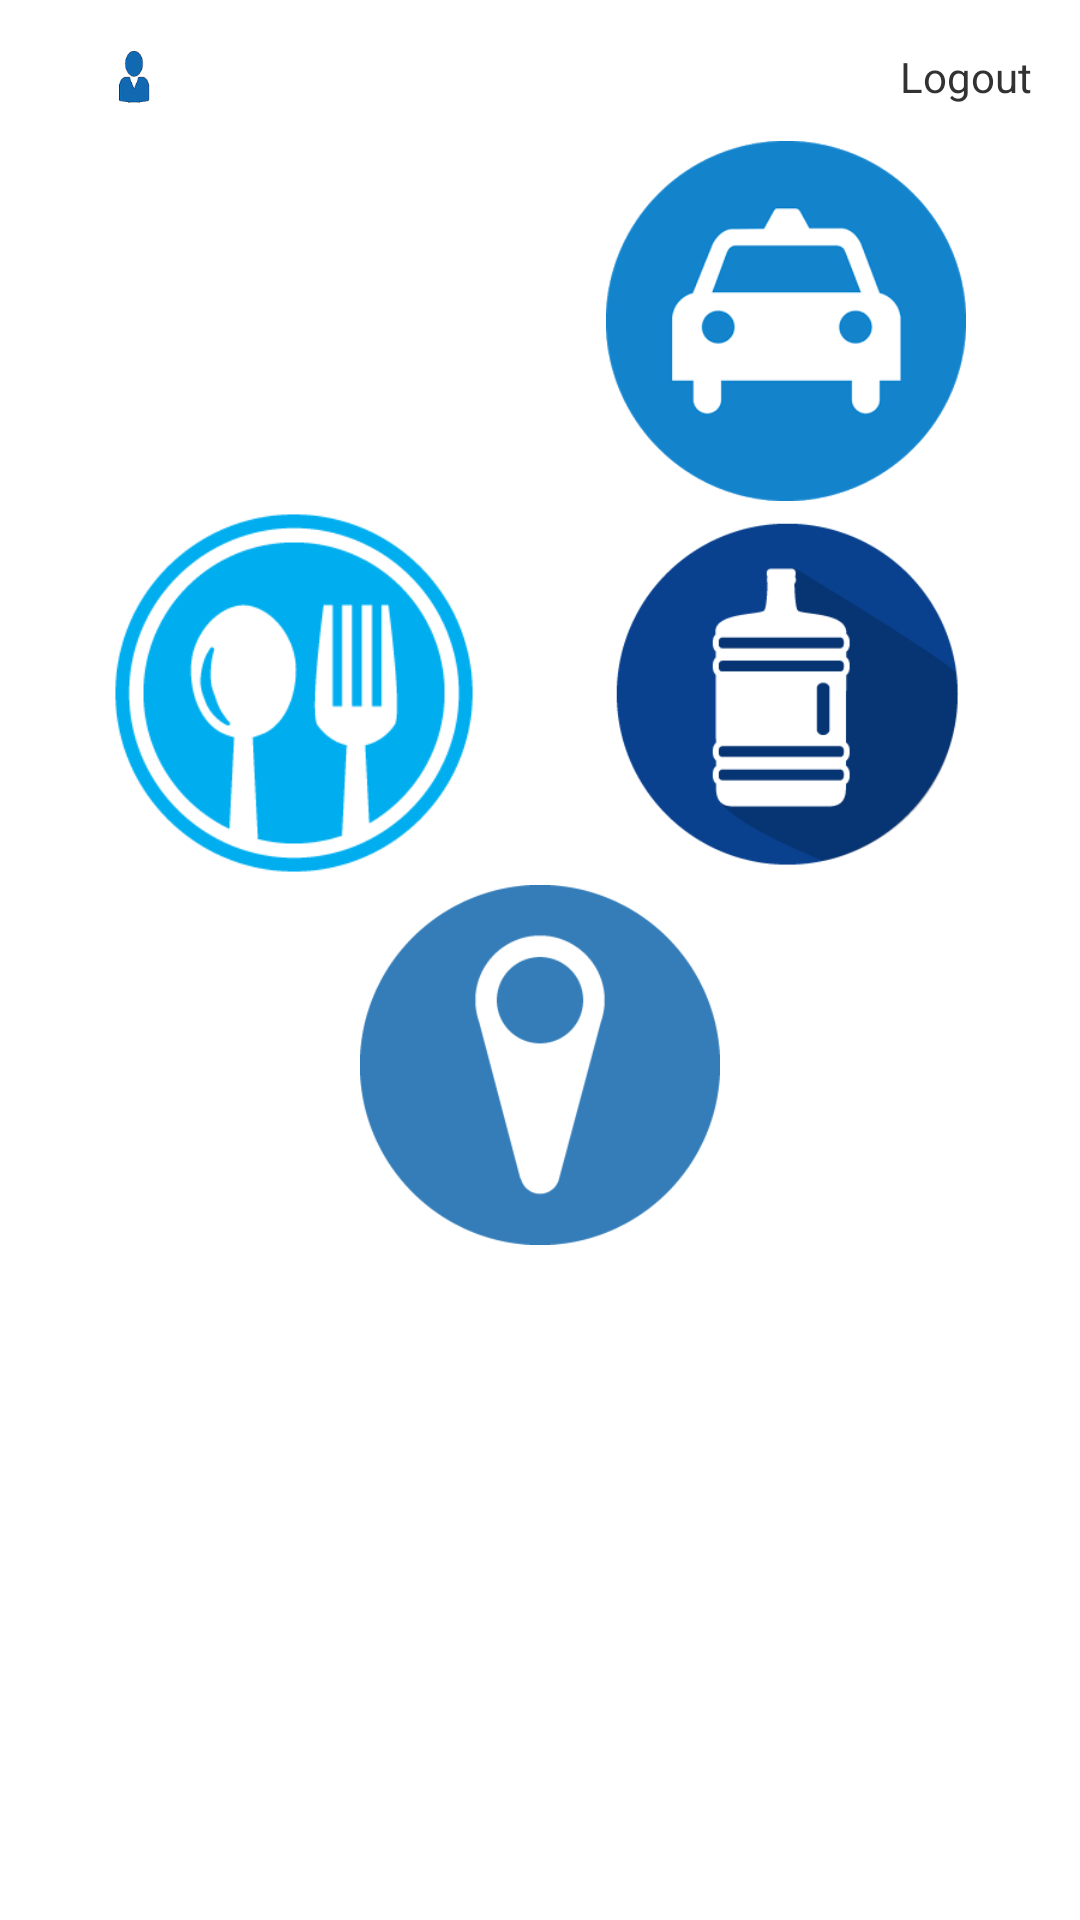

Icons on this 1080 x 1920 Android screen, each with the point to tap as point (x, y):
food: point (294, 693)
location: point (540, 1065)
pro: point (134, 77)
taxi: point (786, 321)
water: point (787, 694)
